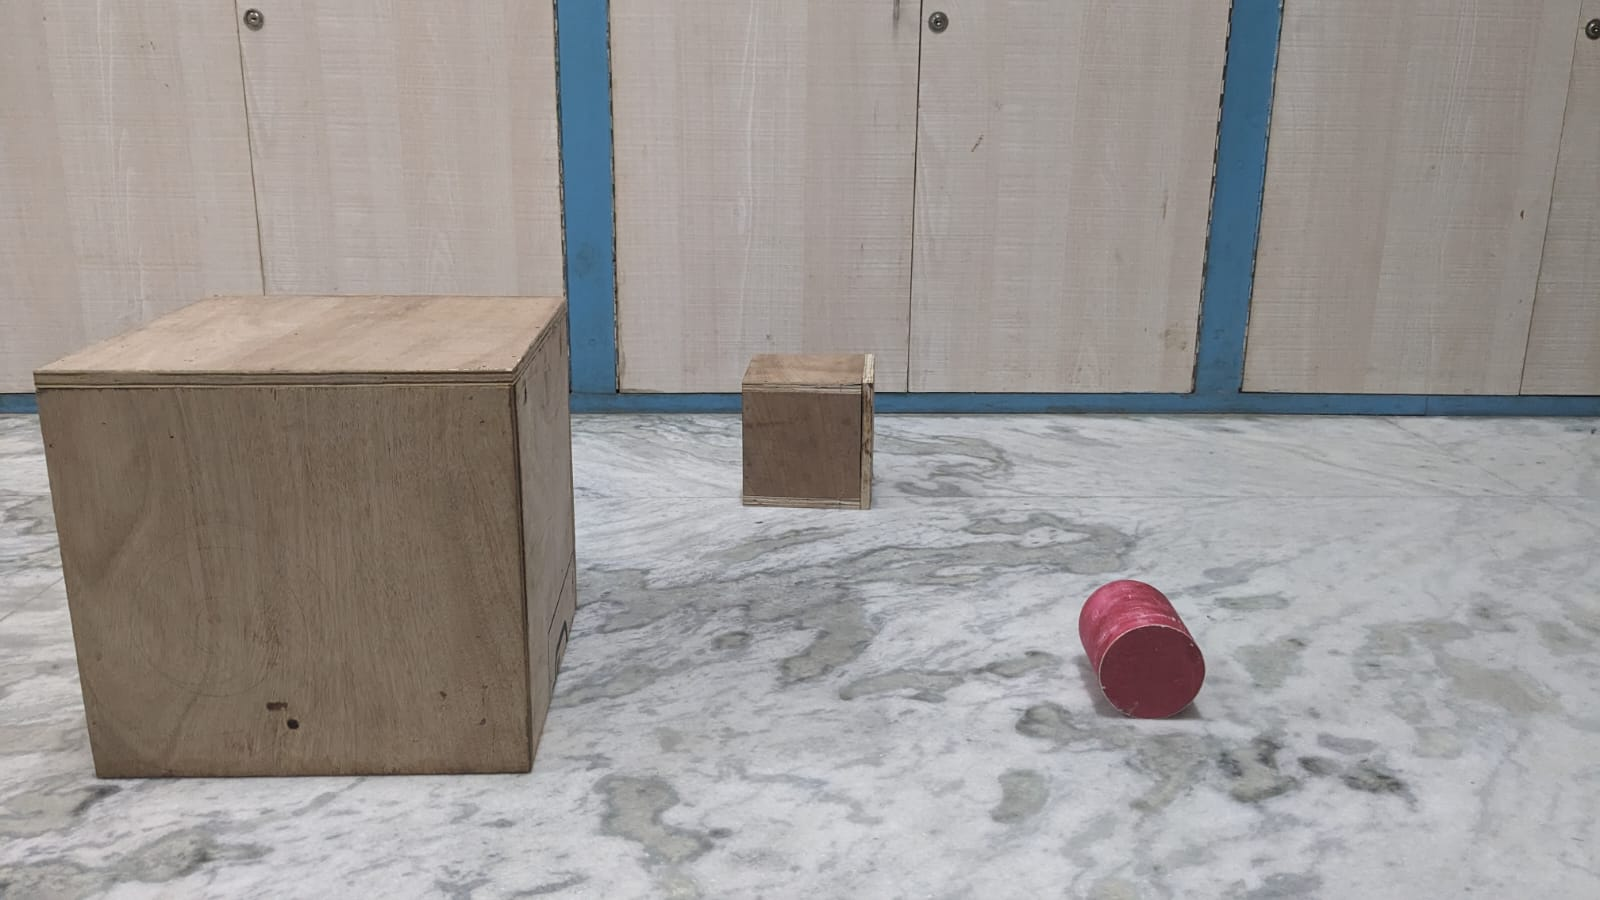150mm obstacle: (724, 332, 908, 514)
300mm obstacle: (16, 273, 640, 873)
testtube: (1052, 568, 1230, 742)
